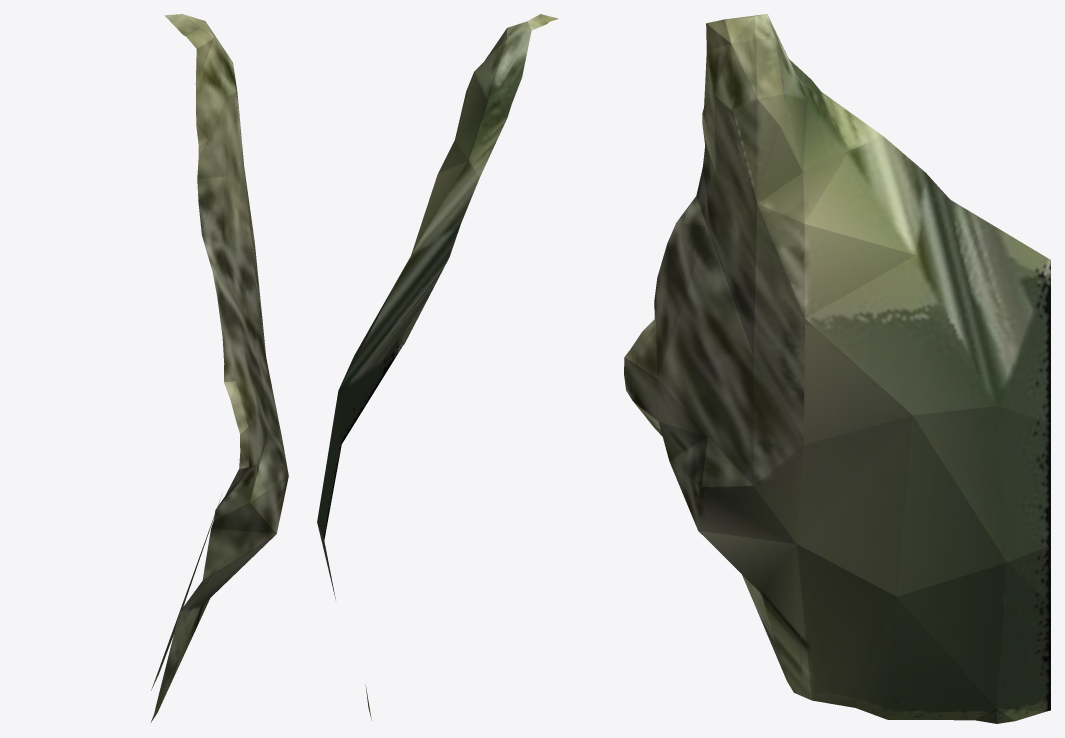
The picture shows the model from 3 angles, left to right: view 1: azimuth 30°, elevation 25°; view 2: azimuth 150°, elevation 25°; view 3: azimuth 270°, elevation 25°; orthographic projection. The views are drawn at different scales.
Size of the model in its own units: 0.9223 by 4.79 by 2.72.
1 material, 1 textured.
